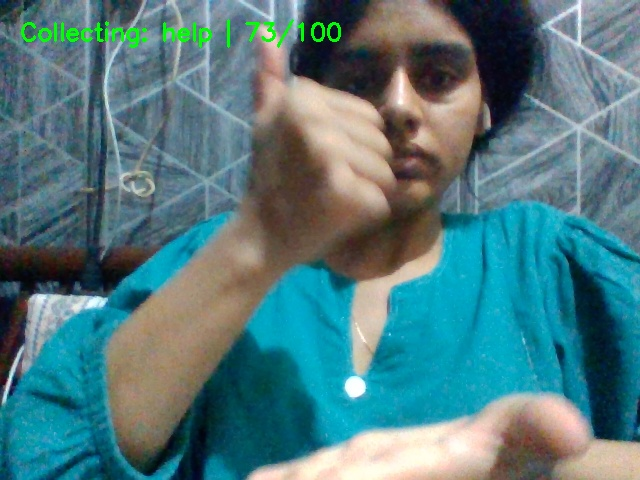help: (230, 19, 590, 480)
